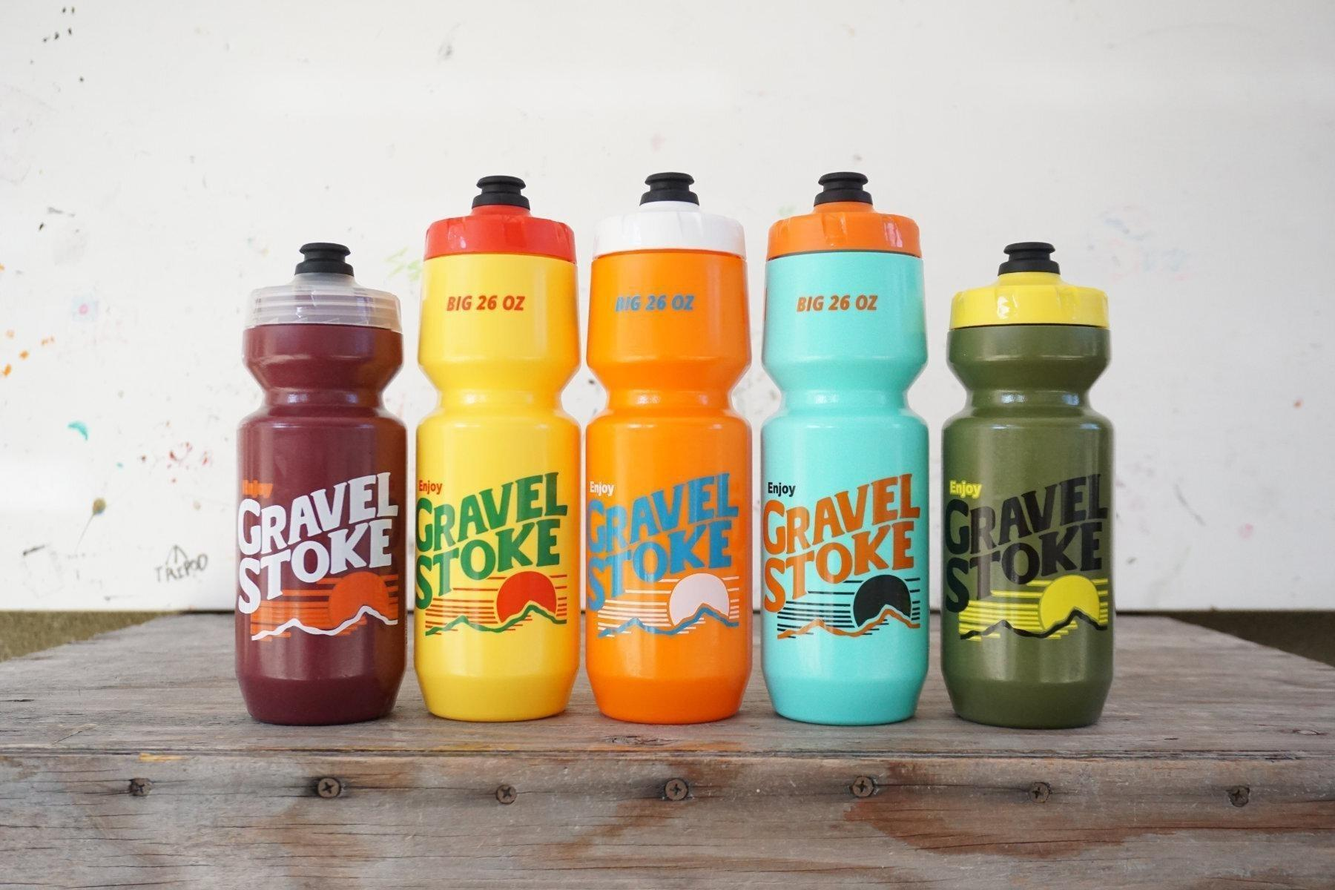gym bottle: (754, 166, 936, 728), (932, 222, 1125, 744), (580, 165, 759, 727), (228, 221, 416, 742), (409, 173, 584, 725)
